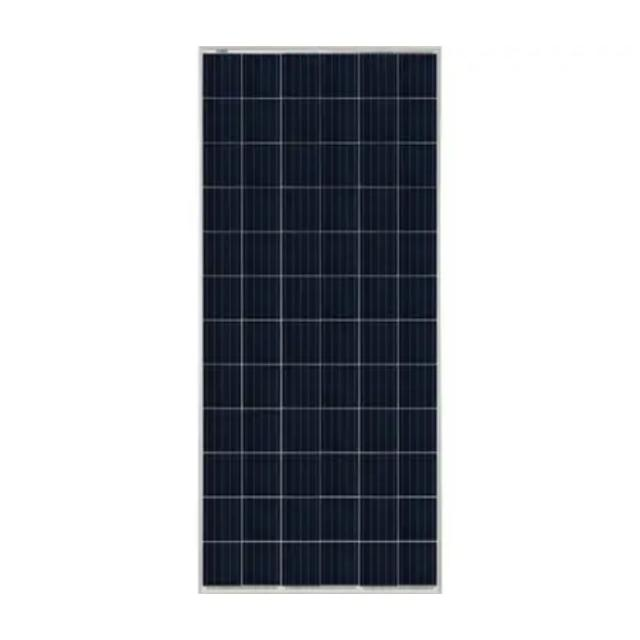clean-solar-panel: (201, 50, 439, 589)
